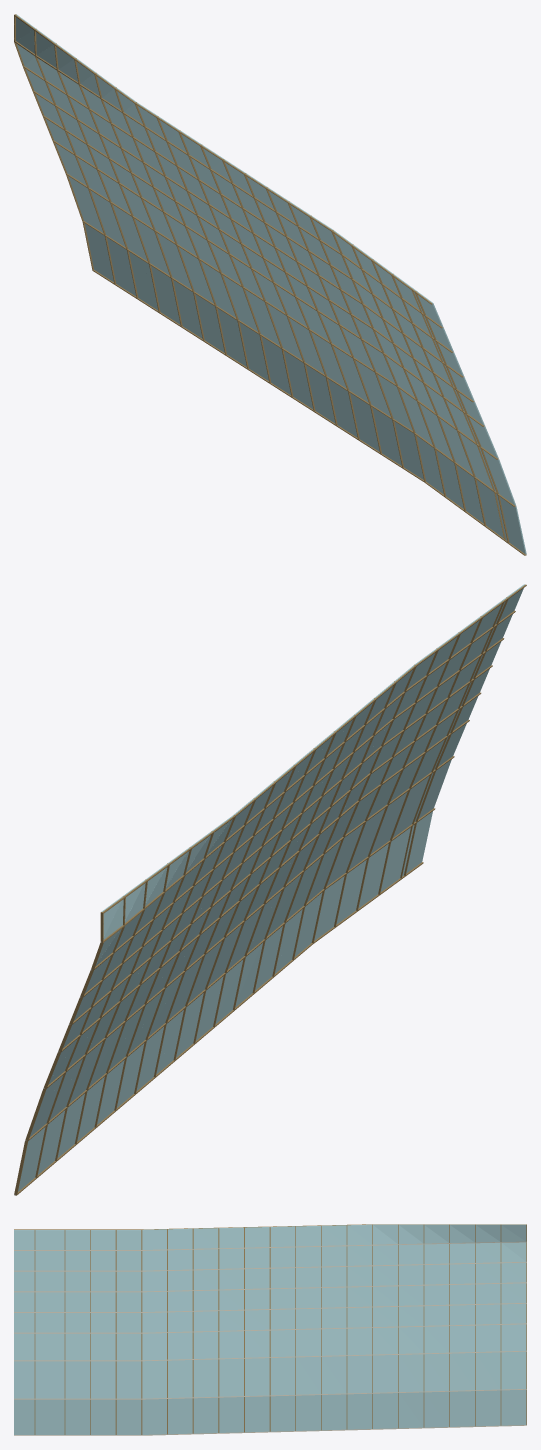
The model's file is G7_Completion_R003_Body_1_01.glb.
The picture shows the model from 3 angles, top to bottom: view 1: azimuth 30°, elevation 25°; view 2: azimuth 150°, elevation 25°; view 3: azimuth 270°, elevation 25°; orthographic projection. The views are drawn at different scales.
Visible parts, largest first — view 1: Body_1_01_G7C3_glass_solid_skin, Body_1_01_G7C3_metal_solid_frame; view 2: Body_1_01_G7C3_glass_solid_skin, Body_1_01_G7C3_metal_solid_frame; view 3: Body_1_01_G7C3_glass_solid_skin, Body_1_01_G7C3_shell_solid_skin, Body_1_01_G7C3_metal_solid_skin, Body_1_01_G7C3_metal_solid_frame.
Part boxes in pixels (left/top/right/bottom): Body_1_01_G7C3_glass_solid_skin: left=16, top=14, right=526, bottom=554; Body_1_01_G7C3_metal_solid_frame: left=14, top=14, right=525, bottom=555; Body_1_01_G7C3_glass_solid_skin: left=18, top=584, right=524, bottom=1191; Body_1_01_G7C3_metal_solid_frame: left=15, top=584, right=526, bottom=1195; Body_1_01_G7C3_glass_solid_skin: left=14, top=1224, right=526, bottom=1434; Body_1_01_G7C3_shell_solid_skin: left=14, top=1241, right=526, bottom=1435; Body_1_01_G7C3_metal_solid_skin: left=34, top=1224, right=526, bottom=1434; Body_1_01_G7C3_metal_solid_frame: left=14, top=1224, right=526, bottom=1229.
Size of the model in its own units: 19.52 by 45.5 by 120.
3 materials, 2 textured.
